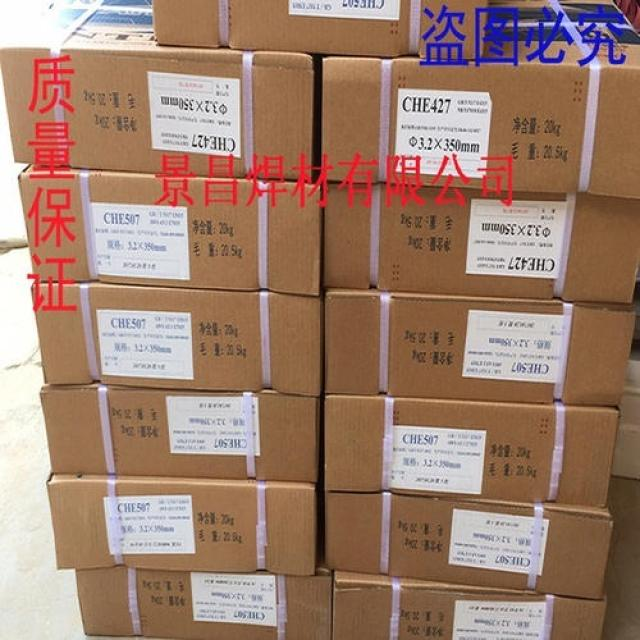box: (322, 0, 639, 200), (1, 0, 323, 183), (16, 163, 323, 296), (319, 182, 639, 302), (318, 289, 636, 407), (30, 280, 323, 397), (323, 392, 620, 505), (321, 492, 613, 599), (48, 472, 326, 575), (40, 385, 325, 481), (153, 0, 490, 60), (332, 570, 605, 639), (76, 568, 335, 638)
